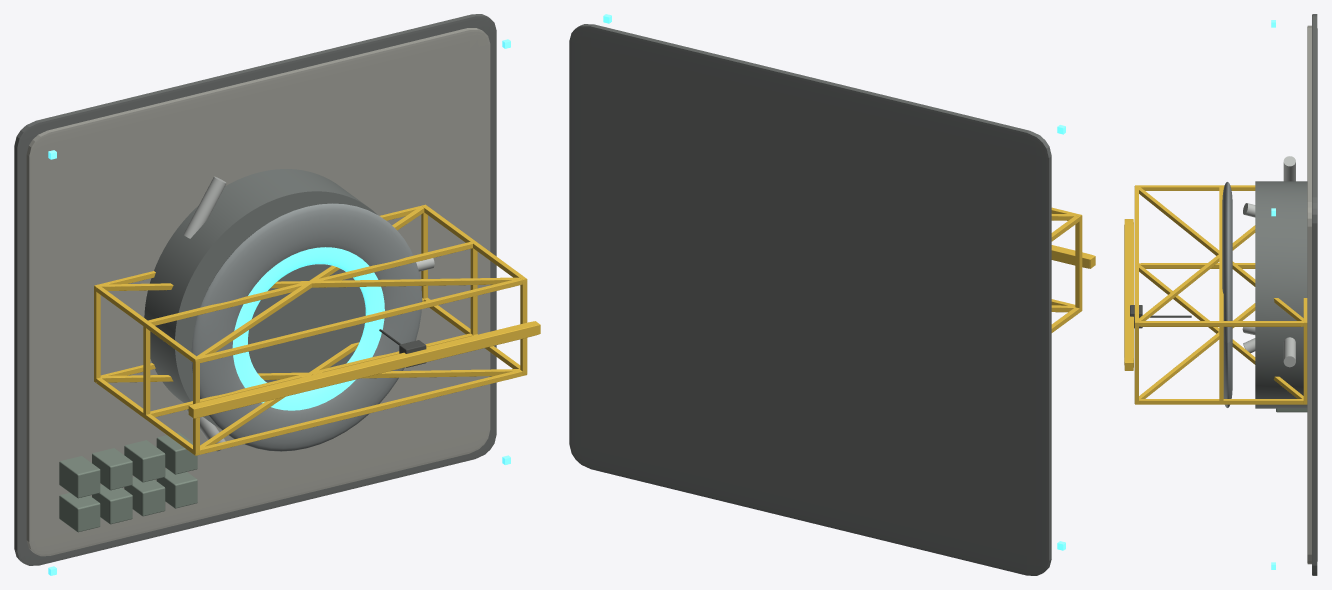
File: b-04-fusion-plant-lod1.glb
3 views of the same model, side by side, from view 1: azimuth 30°, elevation 25°; view 2: azimuth 150°, elevation 25°; view 3: azimuth 270°, elevation 25° (orthographic). The views are drawn at different scales.
Parts seen in each view (by area): view 1: foundation_inner_pad, core_reactor_base, core_reactor_ring_outer, foundation, core_reactor_ring_inner, fusion_bridge_crane_bridge, fusion_bridge_crane_beam_x_2_n, fusion_bridge_crane_beam_x_2_s, fusion_bridge_crane_beam_x_1_n, fusion_bridge_crane_brace_a_1.55, fusion_bridge_crane_brace_a_-1.55, fusion_bridge_crane_brace_b_1.55 (+16 smaller); view 2: foundation, fusion_bridge_crane_beam_y_2_w; view 3: core_reactor_base, foundation, foundation_inner_pad, core_reactor_ring_outer, fusion_bridge_crane_bridge, fusion_bridge_crane_brace_b_1.55, fusion_bridge_crane_brace_b_-1.55, fusion_bridge_crane_column_e_n, fusion_bridge_crane_column_e_s, fusion_bridge_crane_brace_a_1.55, fusion_bridge_crane_brace_a_-1.55, fusion_bridge_crane_beam_x_2_n (+8 smaller).
Part boxes in pixels (bbox=[...]): foundation_inner_pad: bbox=[26, 28, 490, 556]; core_reactor_base: bbox=[144, 169, 377, 428]; core_reactor_ring_outer: bbox=[191, 203, 422, 451]; foundation: bbox=[14, 14, 496, 565]; core_reactor_ring_inner: bbox=[232, 247, 384, 410]; fusion_bridge_crane_bridge: bbox=[188, 321, 540, 418]; fusion_bridge_crane_beam_x_2_n: bbox=[193, 278, 527, 363]; fusion_bridge_crane_beam_x_2_s: bbox=[193, 370, 527, 455]; fusion_bridge_crane_beam_x_1_n: bbox=[148, 242, 472, 325]; fusion_bridge_crane_brace_a_1.55: bbox=[101, 277, 519, 290]; fusion_bridge_crane_brace_a_-1.55: bbox=[101, 369, 519, 382]; fusion_bridge_crane_brace_b_1.55: bbox=[197, 207, 424, 356]; foundation: bbox=[569, 24, 1051, 575]; fusion_bridge_crane_beam_y_2_w: bbox=[1075, 214, 1082, 308]; core_reactor_base: bbox=[1255, 181, 1307, 408]; foundation: bbox=[1312, 14, 1317, 575]; foundation_inner_pad: bbox=[1307, 25, 1311, 564]; core_reactor_ring_outer: bbox=[1222, 182, 1232, 407]; fusion_bridge_crane_bridge: bbox=[1124, 219, 1133, 370]; fusion_bridge_crane_brace_b_1.55: bbox=[1139, 187, 1303, 320]; fusion_bridge_crane_brace_b_-1.55: bbox=[1139, 265, 1303, 398]; fusion_bridge_crane_column_e_n: bbox=[1139, 321, 1303, 326]; fusion_bridge_crane_column_e_s: bbox=[1139, 399, 1303, 404]; fusion_bridge_crane_brace_a_1.55: bbox=[1139, 225, 1255, 320]; fusion_bridge_crane_brace_a_-1.55: bbox=[1139, 303, 1255, 398]; fusion_bridge_crane_beam_x_2_n: bbox=[1134, 186, 1138, 326].
Size of what is drawn, in the model's own units: 17 by 15 by 6.97.
